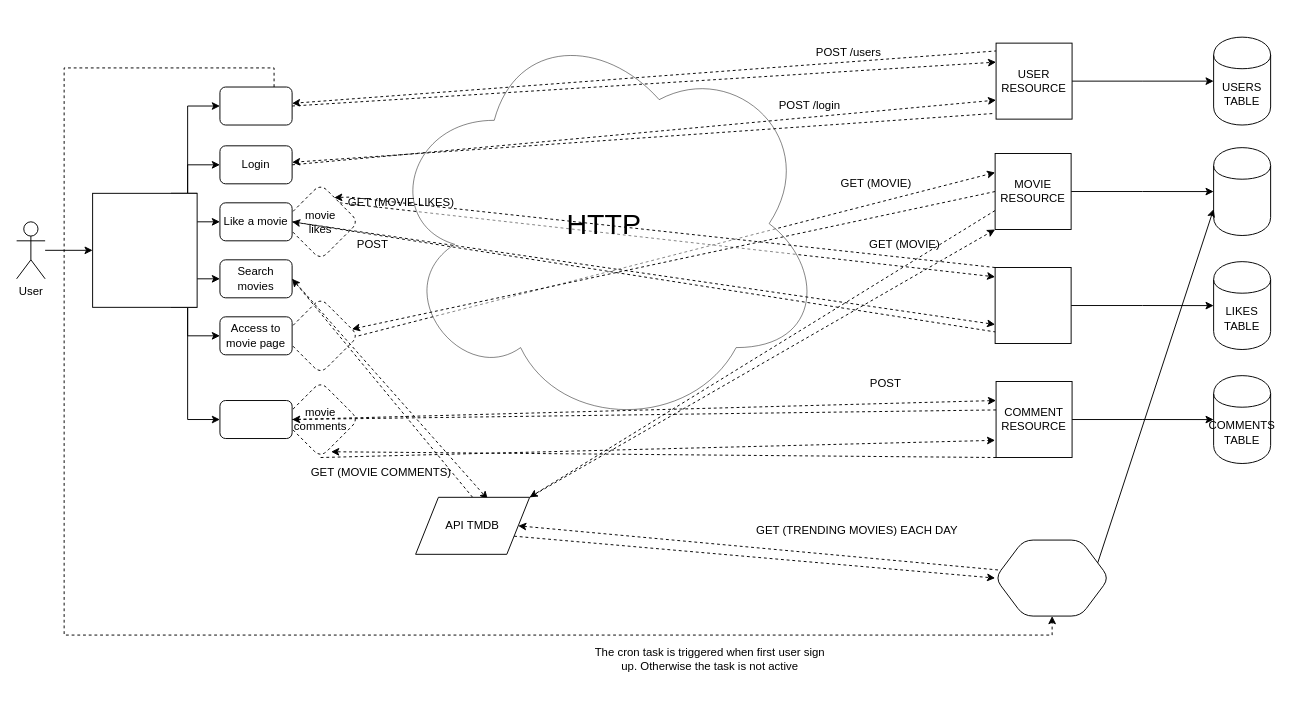
This 1292x718 diagram has some shape labels left out. The centre of each missing label's shape, as x and y in pixels:
Client (VueJS): the point at 144,249
Comment a movie: the point at 255,419
CRON TASK TRENDING MOVIES: the point at 1051,577
LIKE RESOURCE: the point at 1032,305
movie details: the point at 320,335
MOVIES TABLE: the point at 1242,191
Register: the point at 255,105
